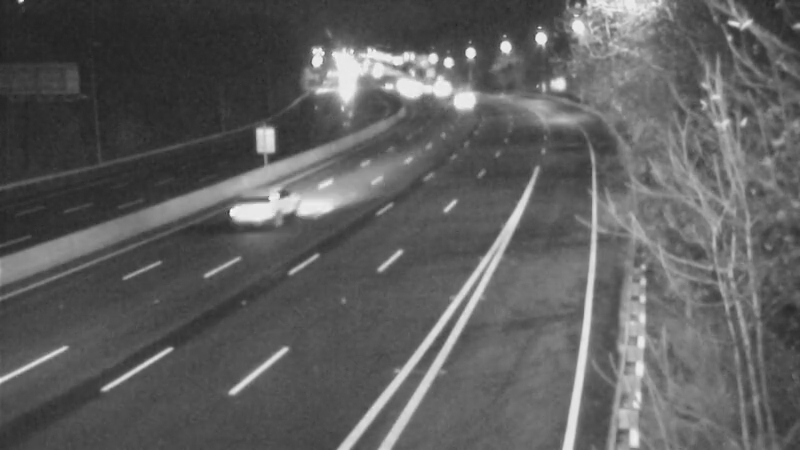vehicle: (227, 165, 307, 245), (411, 65, 461, 115), (438, 74, 488, 124)
